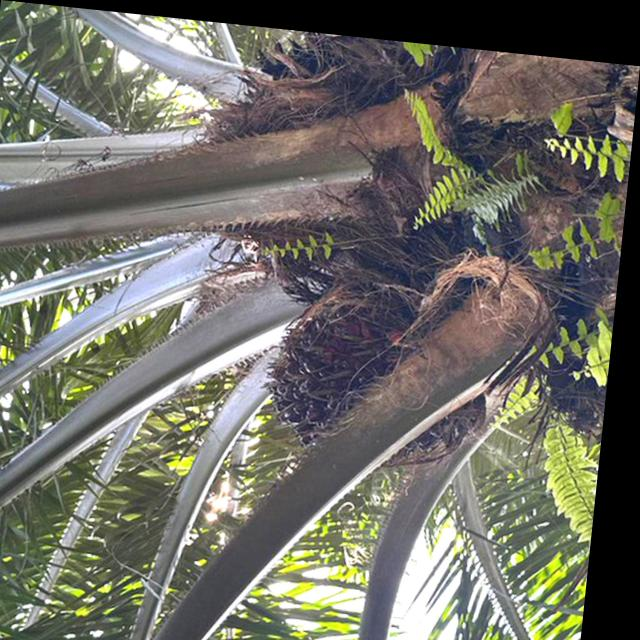ripe: (258, 262, 439, 452)
